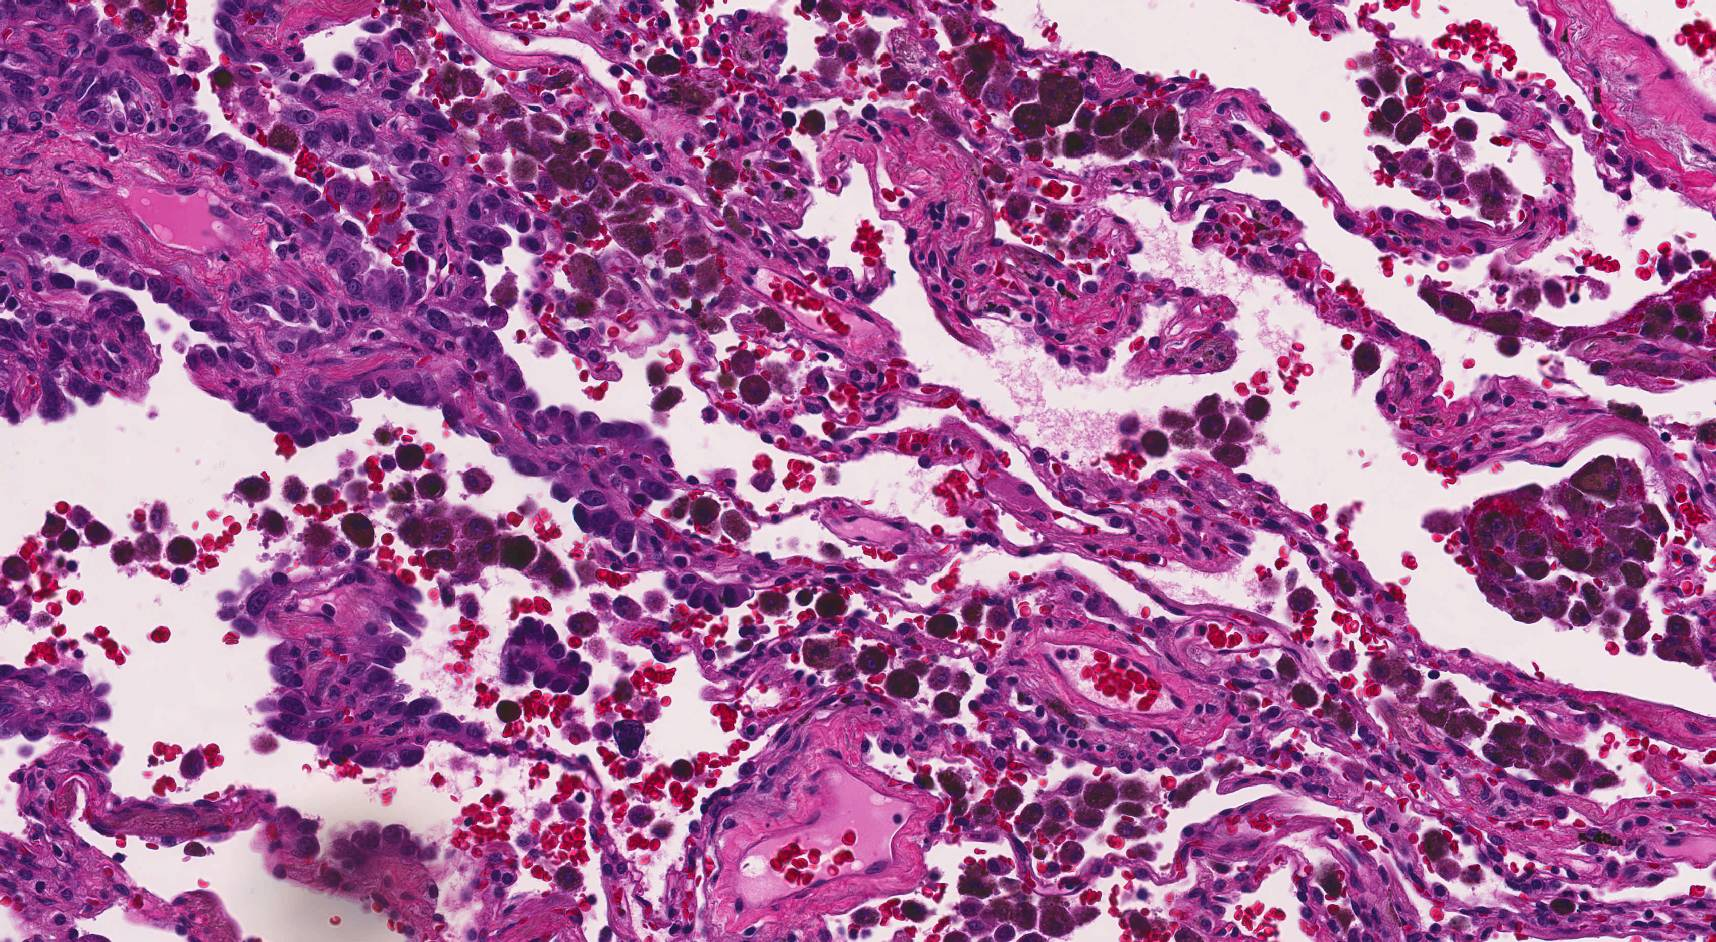stas: (497, 615, 595, 692)
